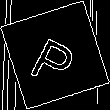P_NE: (27, 24, 83, 86)
